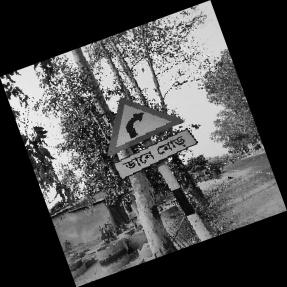Right-turn: (107, 98, 198, 181)
